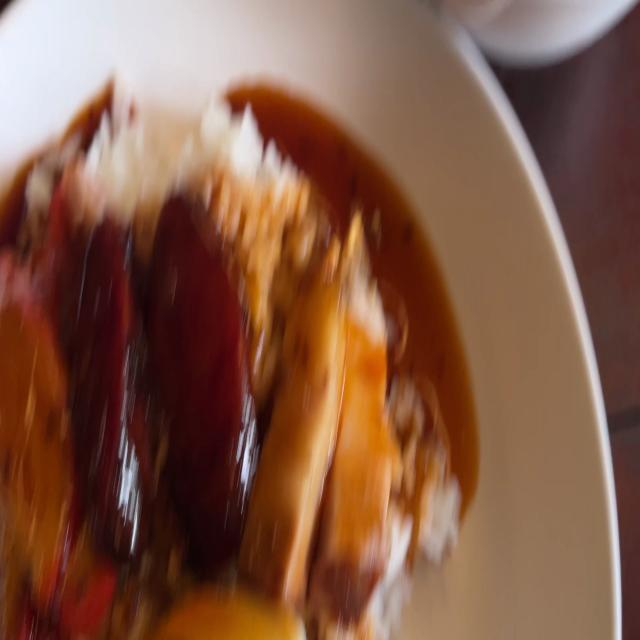stir_fried_basil: (144, 189, 249, 556), (81, 202, 146, 550)
